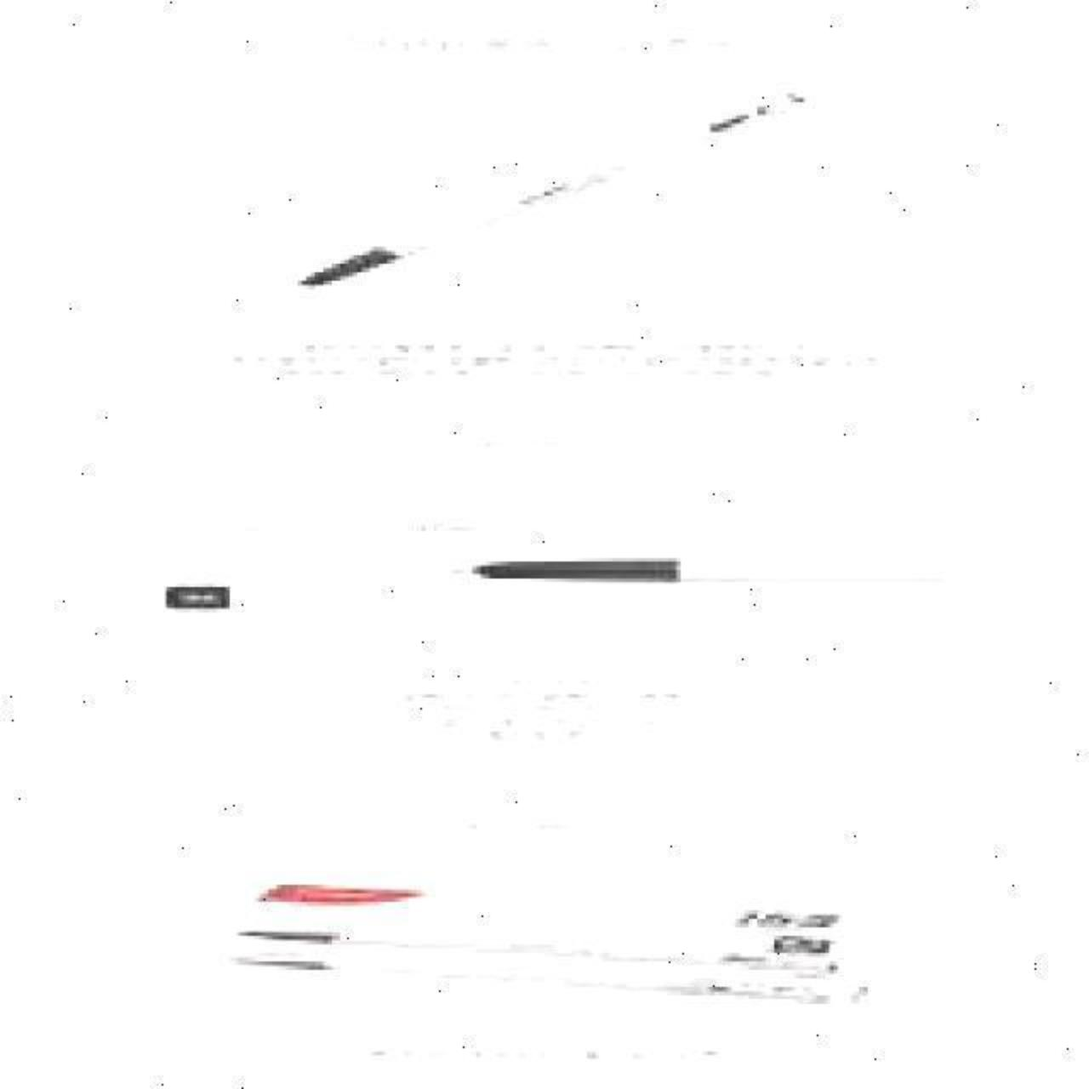pen: (277, 90, 822, 303), (221, 924, 851, 975)
